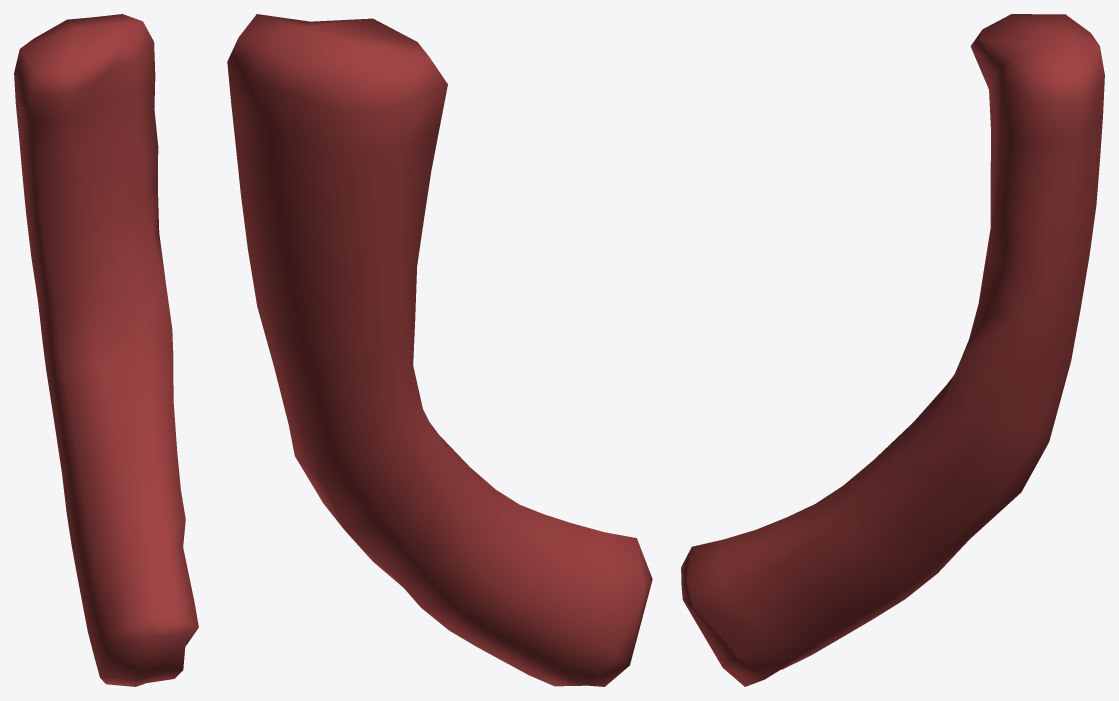
The model's file is common-tendon-sheath-of-fibularis-muscles-r.glb.
3 renders of one model, left to right at view 1: azimuth 30°, elevation 25°; view 2: azimuth 150°, elevation 25°; view 3: azimuth 270°, elevation 25°, orthographic. The views are drawn at different scales.
Visible parts, largest first — view 1: Common tendon sheath of fibularis muscles.r; view 2: Common tendon sheath of fibularis muscles.r; view 3: Common tendon sheath of fibularis muscles.r.
Boxes of the visible parts, bbox=[...] form: Common tendon sheath of fibularis muscles.r: bbox=[14, 14, 198, 686]; Common tendon sheath of fibularis muscles.r: bbox=[227, 14, 652, 686]; Common tendon sheath of fibularis muscles.r: bbox=[681, 14, 1104, 686].
Bounding box in the file's own units: 0.0141 × 0.0434 × 0.0247.
